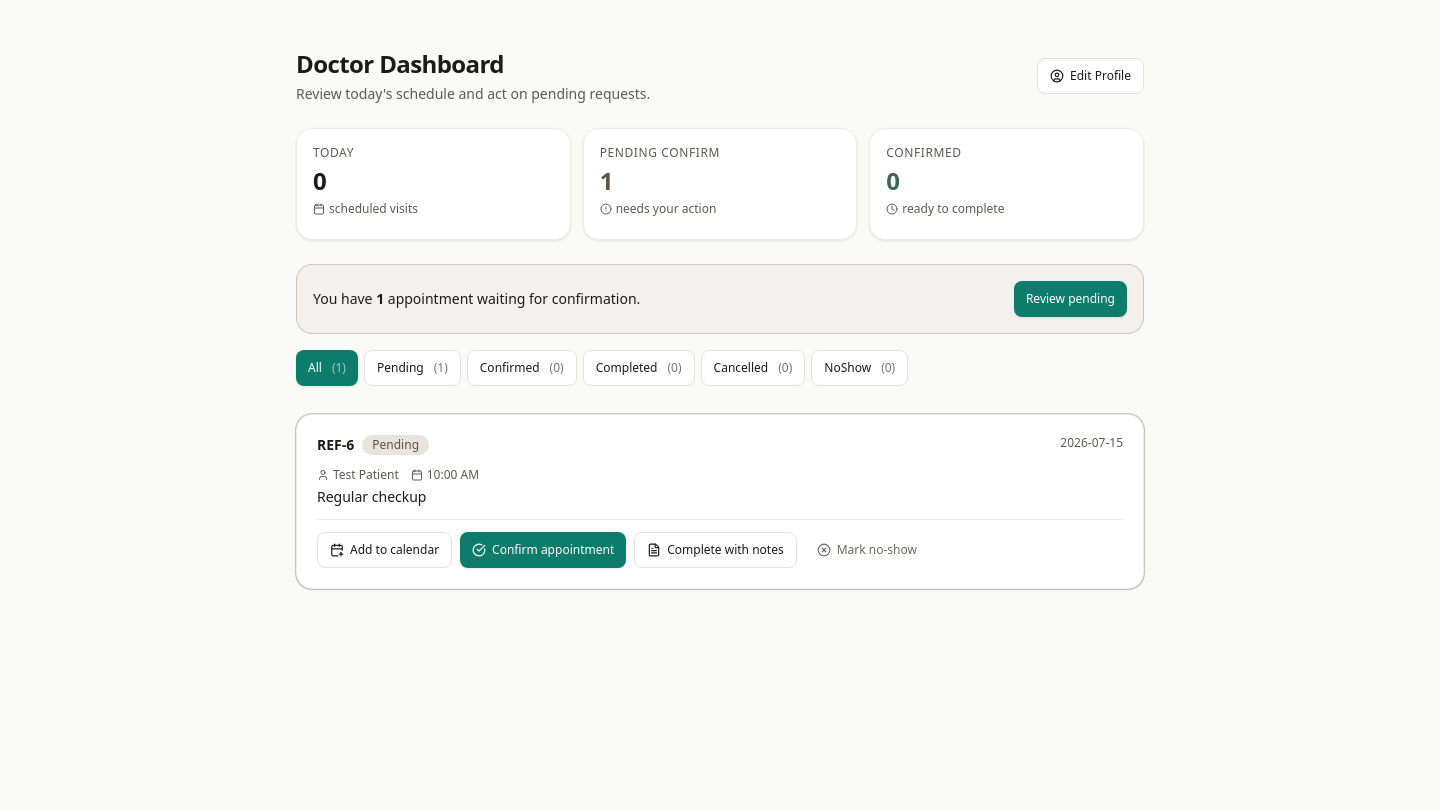
it: DoctorDashboardPage › dashboard mode (with doctorId from JWT) › confirm modal › shows override reason field when override payment is checked
Expected: the text "REF-6" is shown, top-left (317, 435), bottom-right (354, 455)
Click the button "Confirm appointment".
click(543, 550)  # box top-left (460, 532), bottom-right (626, 568)
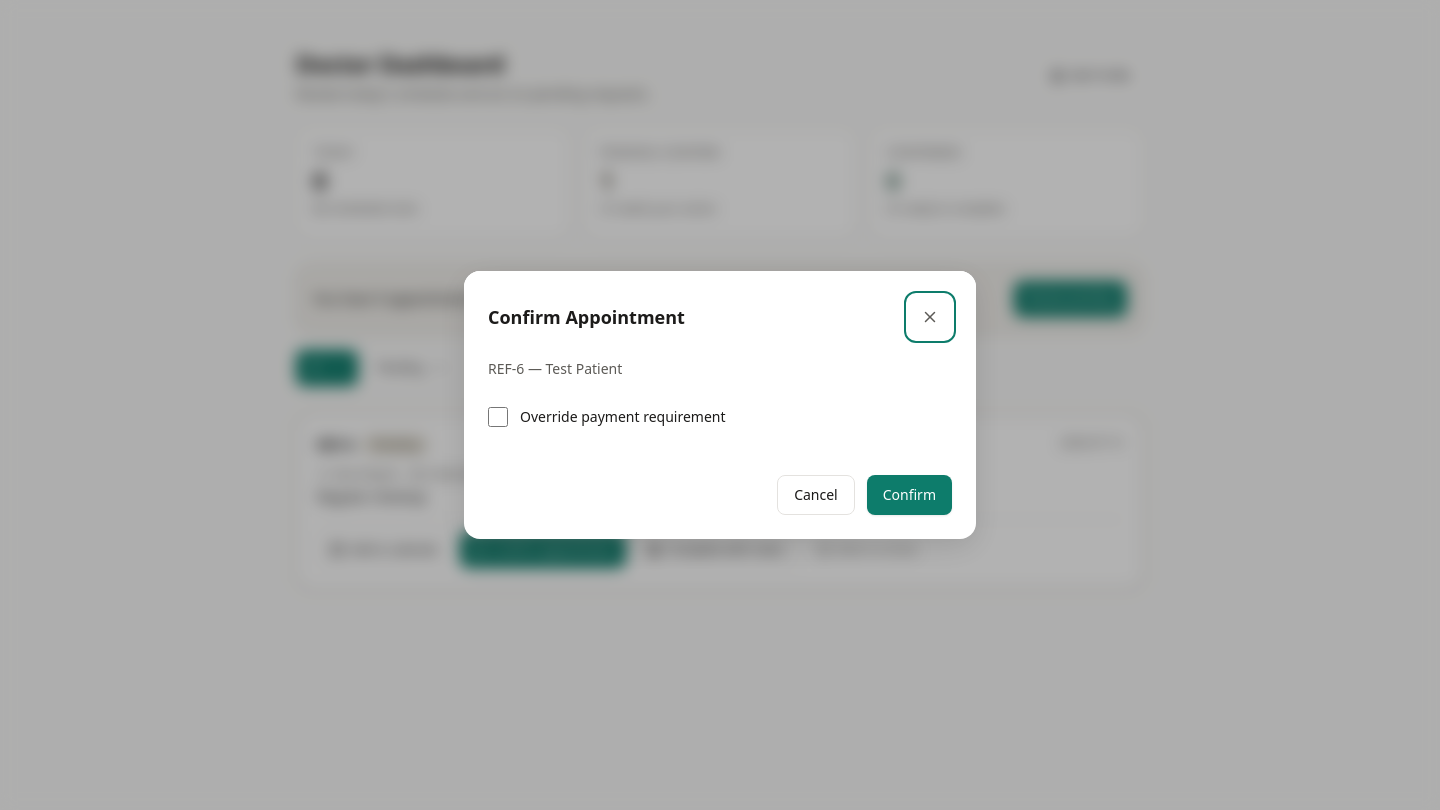
Click the checkbox labelled "Override payment requirement".
click(498, 417)  # box top-left (488, 407), bottom-right (508, 427)
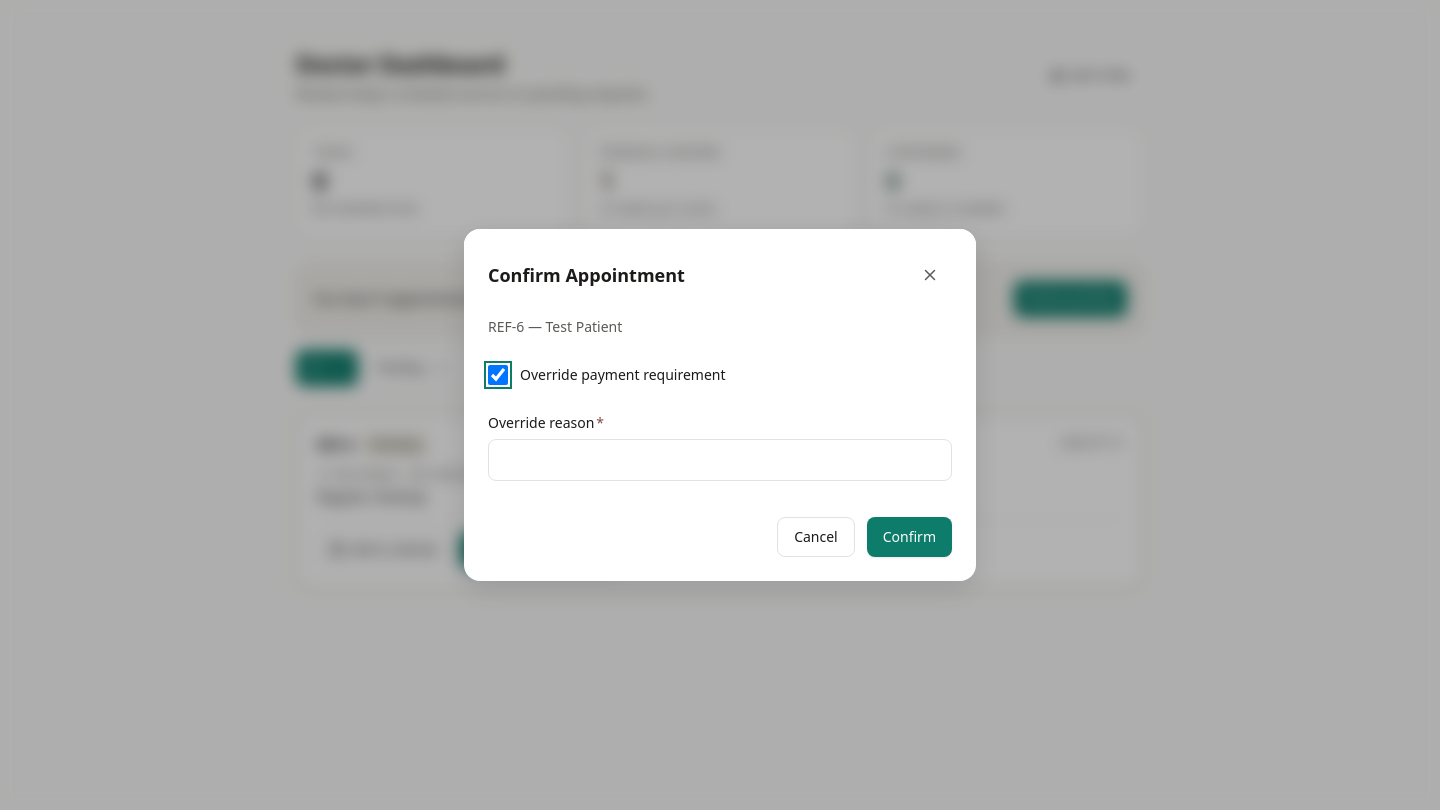
Expected: the field labelled "Override reason*" is shown, top-left (488, 439), bottom-right (952, 481)
